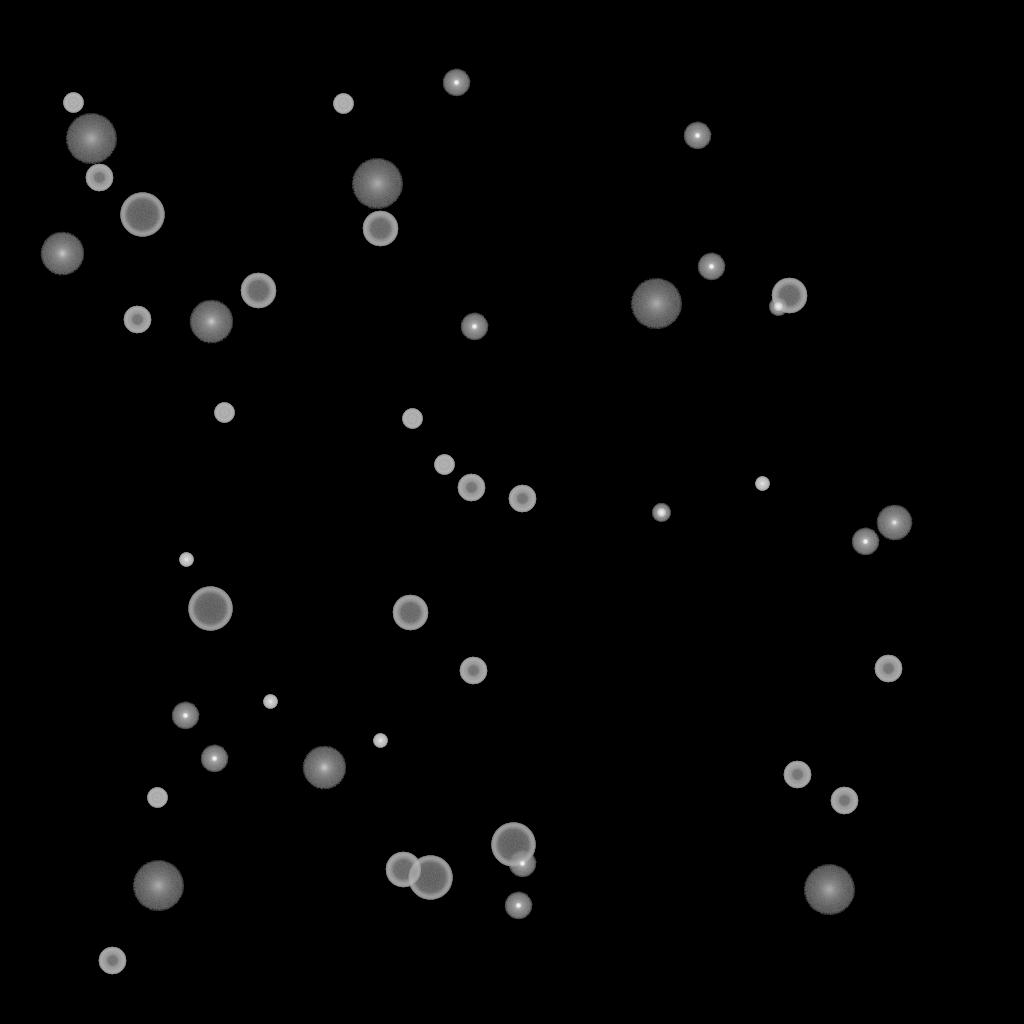depth:-10: (171, 702, 199, 730), (460, 313, 488, 341), (851, 528, 879, 556), (508, 850, 536, 878), (200, 745, 228, 773), (504, 892, 532, 920), (697, 253, 725, 281), (442, 69, 470, 97), (683, 122, 711, 150)
depth:-20: (652, 504, 670, 522), (769, 298, 787, 316)
depth:-30: (263, 695, 277, 709), (755, 477, 769, 491), (373, 734, 387, 748), (179, 553, 193, 567)
depth:-40: (63, 93, 83, 113), (214, 403, 234, 423), (147, 788, 167, 808), (402, 409, 422, 429), (333, 94, 353, 114), (434, 455, 454, 475)
depth:-50: (98, 947, 126, 975), (457, 474, 485, 502), (123, 306, 151, 334), (830, 787, 858, 815), (85, 164, 113, 192), (783, 761, 811, 789), (508, 485, 536, 513), (874, 655, 902, 683), (459, 657, 487, 685)
depth:-60: (362, 211, 398, 247), (392, 595, 428, 631), (771, 278, 807, 314), (385, 852, 421, 888), (240, 273, 276, 309)
depth:-70: (408, 856, 452, 900), (120, 193, 164, 237), (491, 823, 535, 867), (188, 587, 232, 631)
depth:0: (876, 505, 912, 541)
depth:10: (40, 232, 84, 276), (189, 300, 233, 344), (302, 746, 346, 790)
depth:20: (630, 279, 682, 329), (65, 114, 117, 164), (351, 159, 403, 209), (803, 865, 855, 915), (132, 861, 184, 911)
